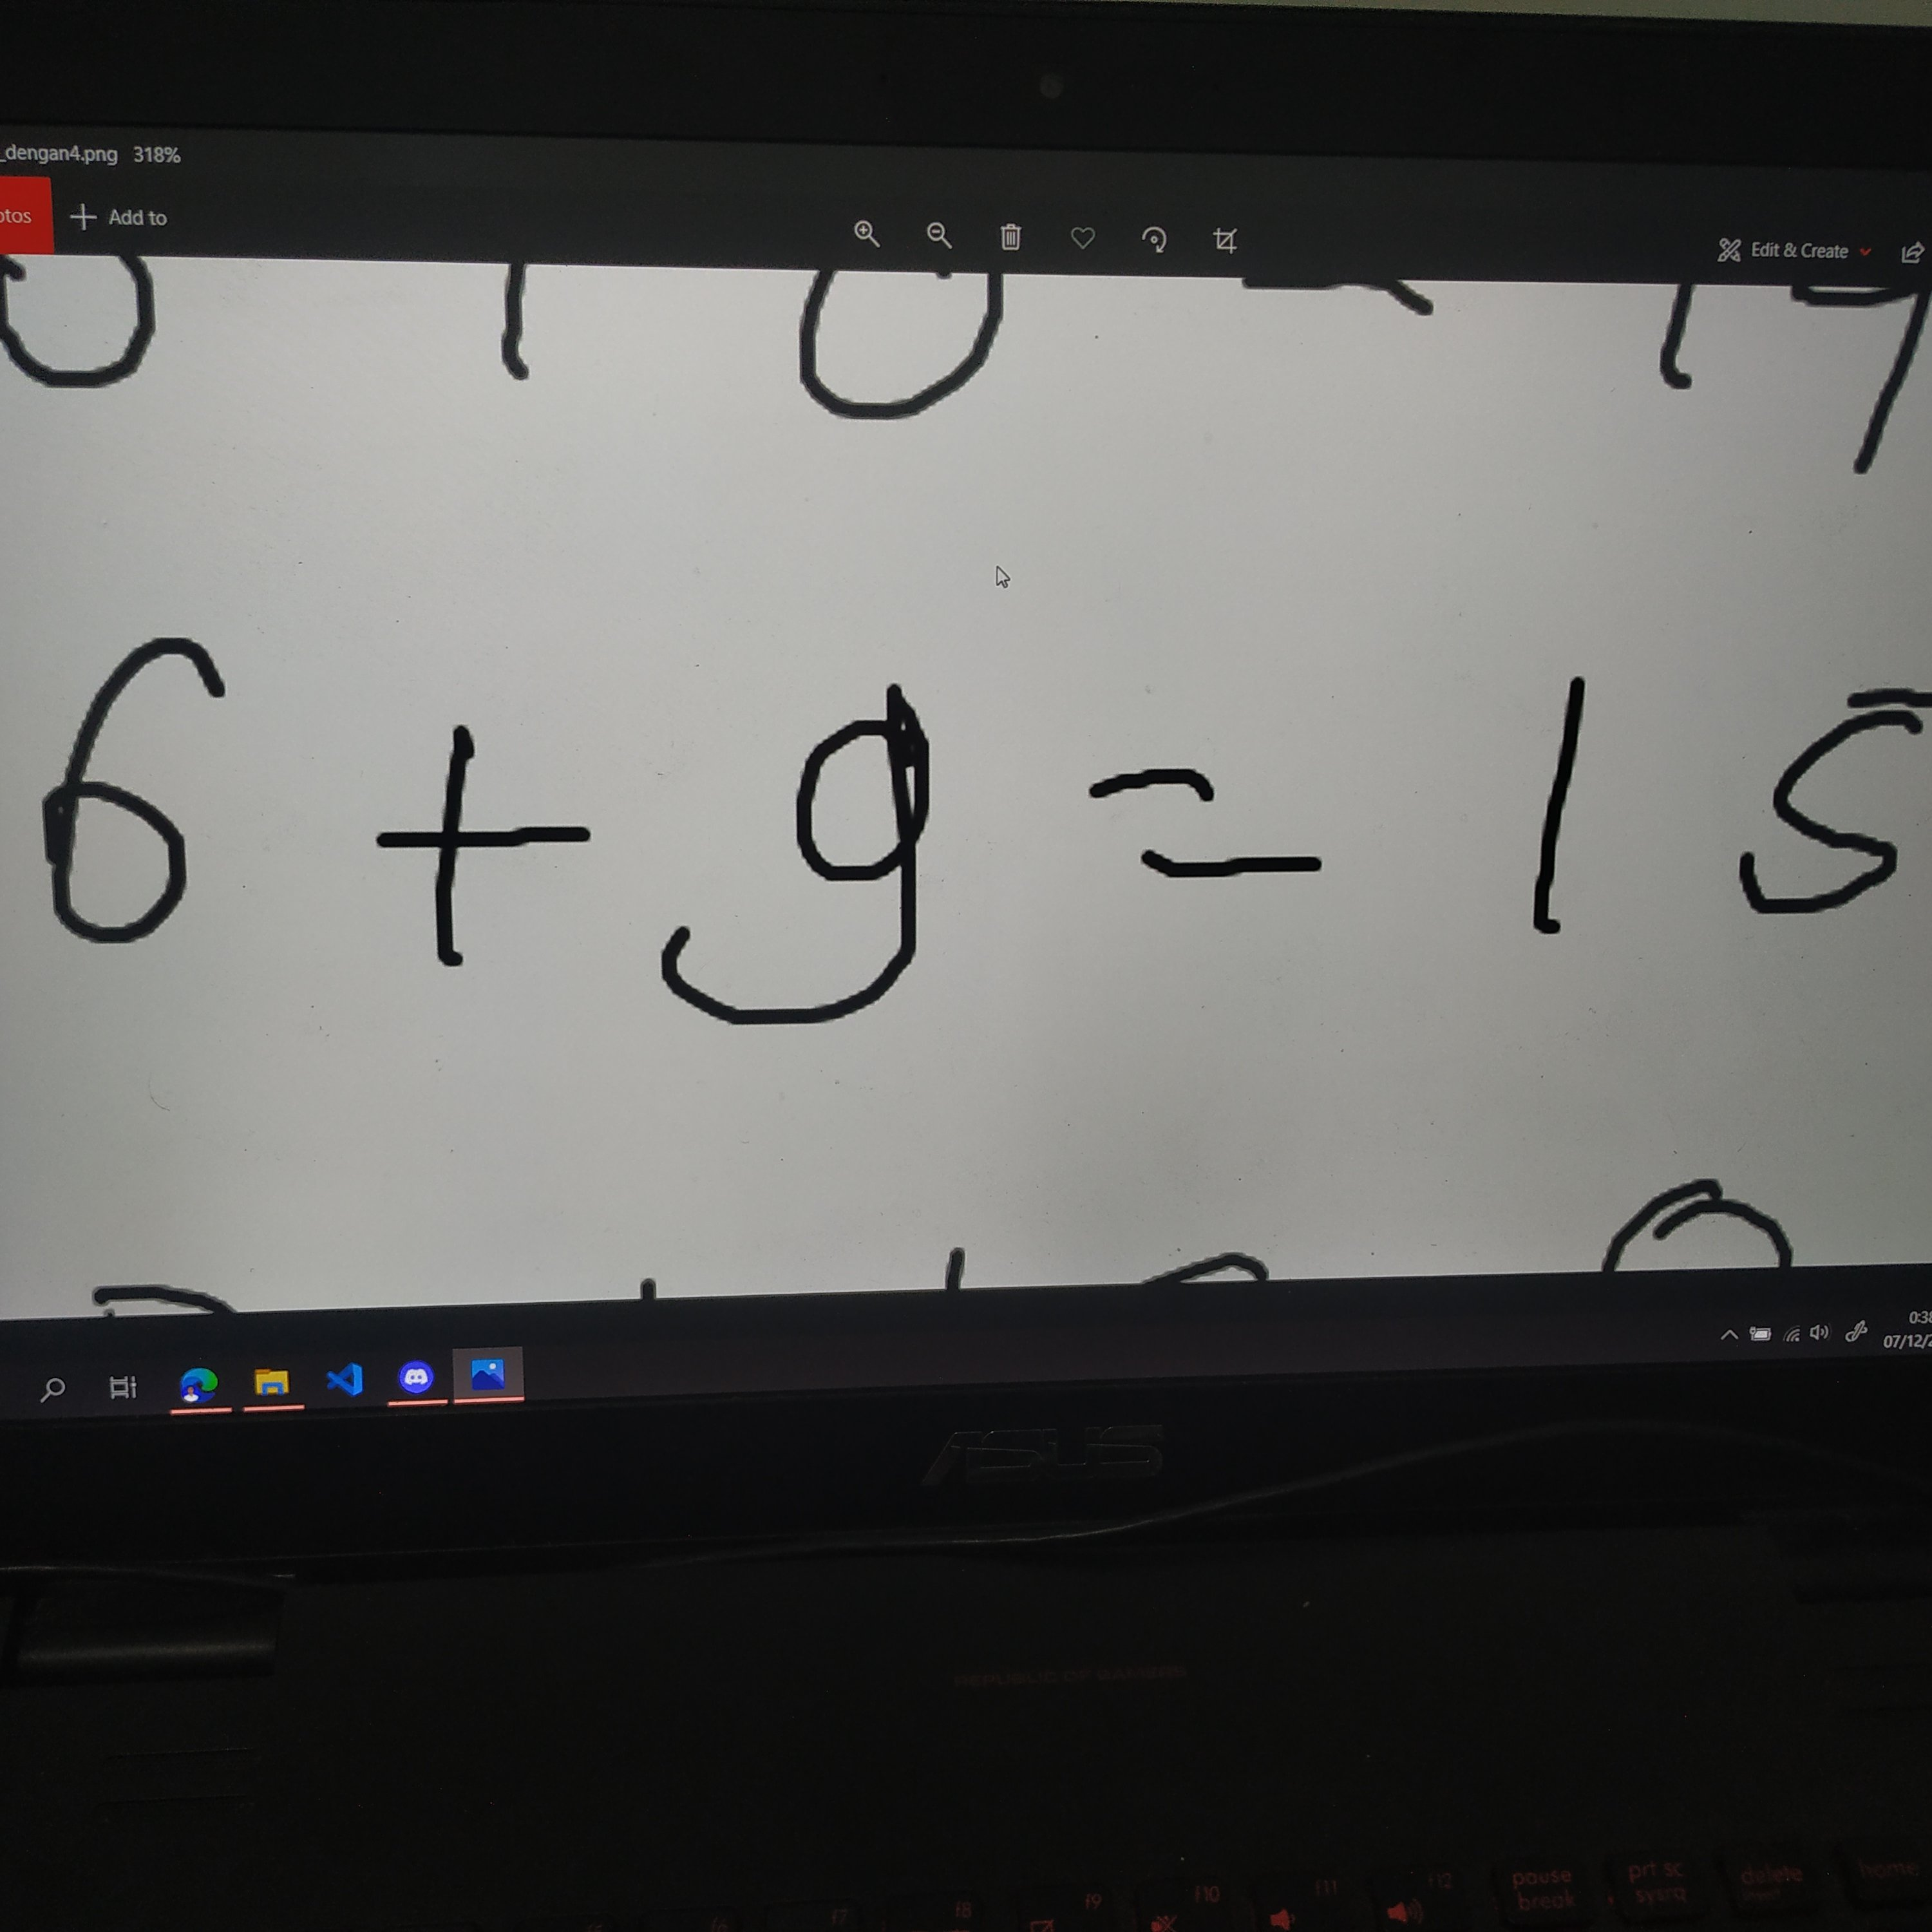equal: (1066, 750, 1347, 905)
num1: (1506, 667, 1616, 961)
num5: (1694, 663, 1932, 940)
num6: (23, 612, 248, 976)
num9: (645, 685, 954, 1041)
sum: (362, 721, 605, 972)
